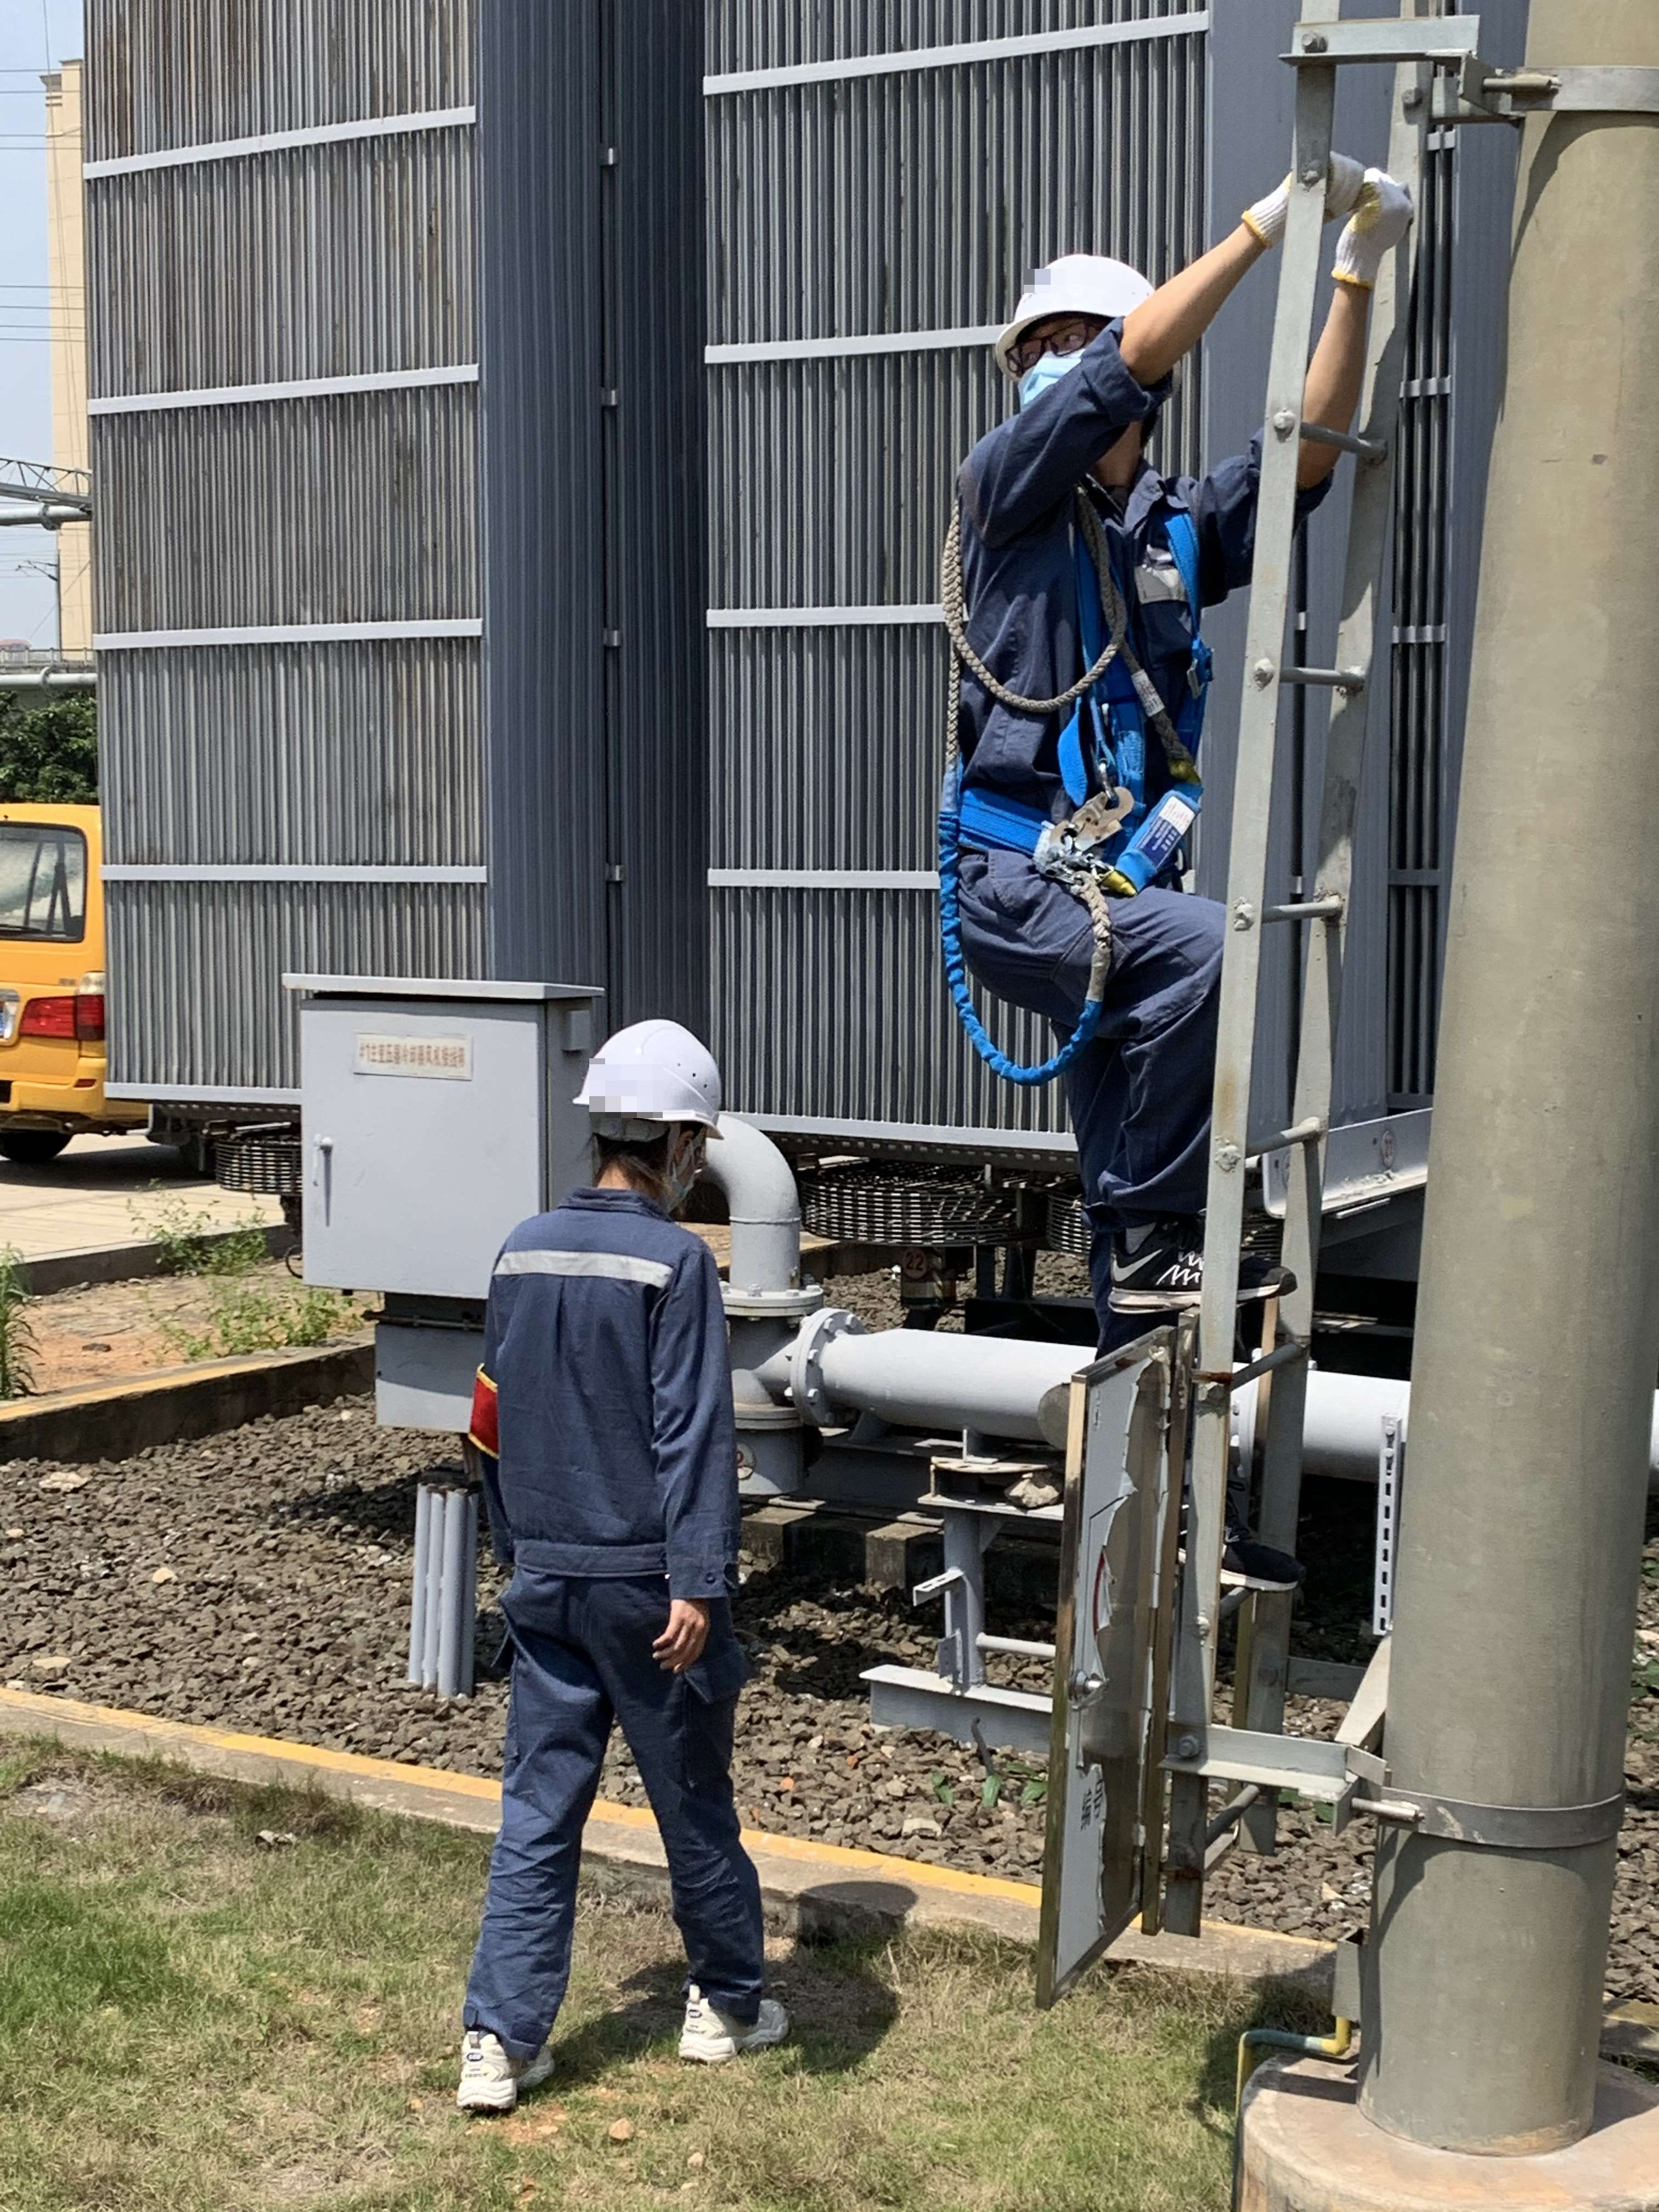downsuit: (451, 1611, 782, 2034), (964, 911, 1236, 1226)
upsuit: (953, 317, 1291, 880), (448, 1181, 746, 1576)
wrongtop: (1089, 230, 1262, 420), (1237, 286, 1375, 514)
